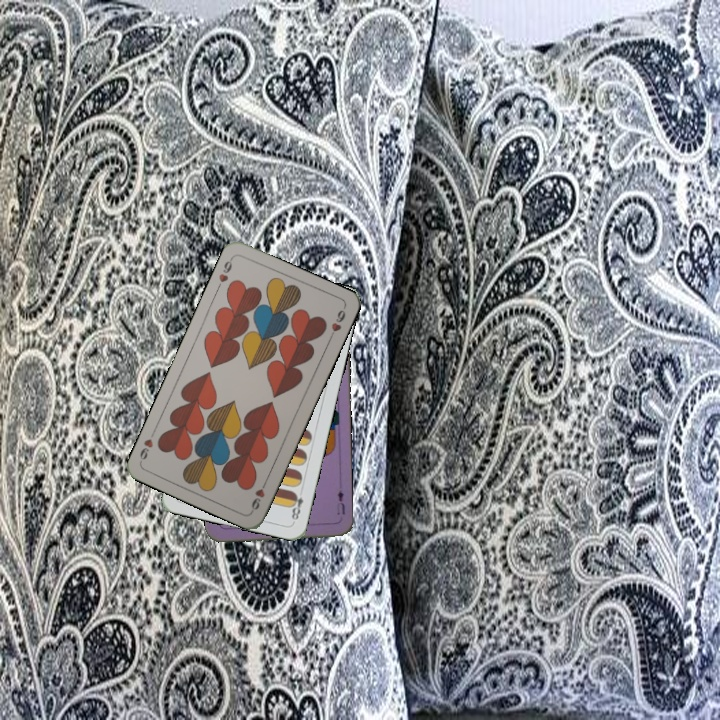E8: (287, 484, 306, 523)
EU: (334, 486, 347, 517)
H9: (213, 253, 235, 292), (247, 476, 270, 513)
